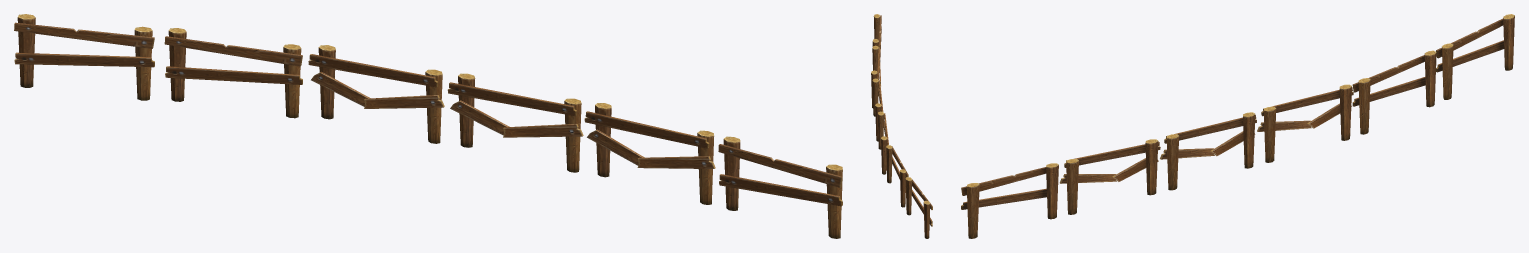
The model's file is Area_12_23.fbx.
3 renders of one model, left to right at view 1: azimuth 30°, elevation 25°; view 2: azimuth 150°, elevation 25°; view 3: azimuth 270°, elevation 25°, orthographic. The views are drawn at different scales.
Parts seen in each view (by area): view 1: Area_12_23; view 2: Area_12_23; view 3: Area_12_23.
Part boxes in pixels (x1,y1,x2,y2): Area_12_23: (14, 14, 842, 238); Area_12_23: (871, 14, 932, 238); Area_12_23: (961, 14, 1514, 238).
Bounding box in the file's own units: 990 × 144 × 1332.
